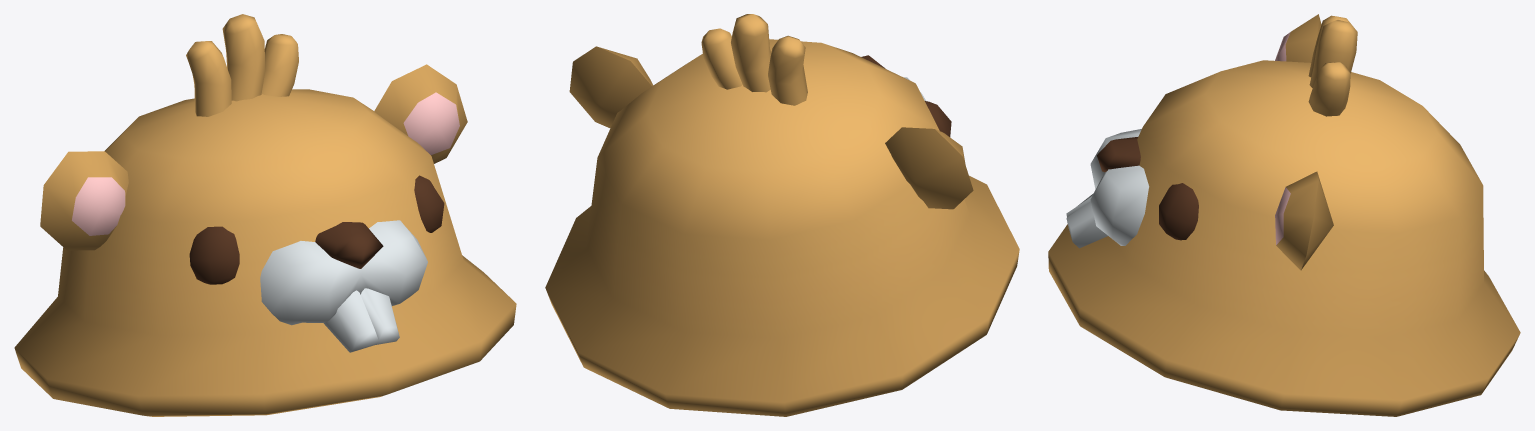
File: Hat.fbx
3 renders of one model, left to right at view 1: azimuth 30°, elevation 25°; view 2: azimuth 150°, elevation 25°; view 3: azimuth 270°, elevation 25°, orthographic. The views are drawn at different scales.
Visible parts, largest first — view 1: Hat; view 2: Hat; view 3: Hat.
Part boxes in pixels (x1,y1,x2,y2): Hat: (14,14,516,416); Hat: (545,14,1019,416); Hat: (1048,14,1520,416).
Bounding box in the file's own units: 81.02 × 62.21 × 79.61.
1 material, 1 textured.
